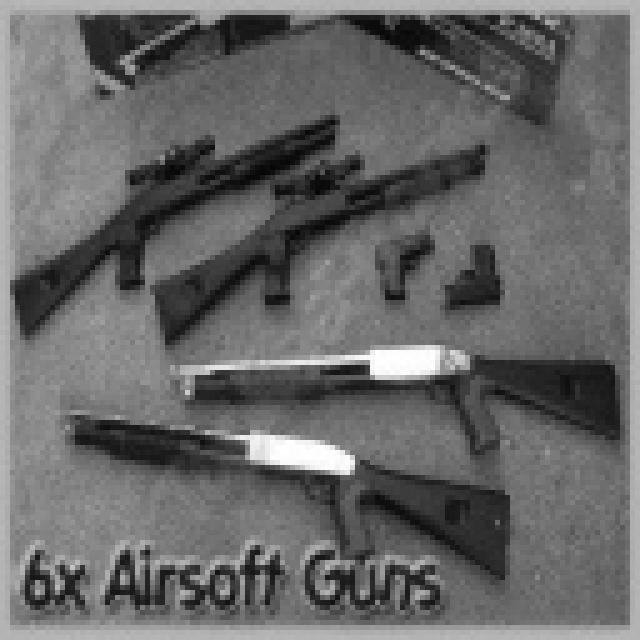Rifle: (49, 387, 539, 596), (0, 109, 341, 356), (145, 121, 500, 348), (140, 320, 640, 460), (422, 244, 524, 327), (357, 217, 431, 326)
